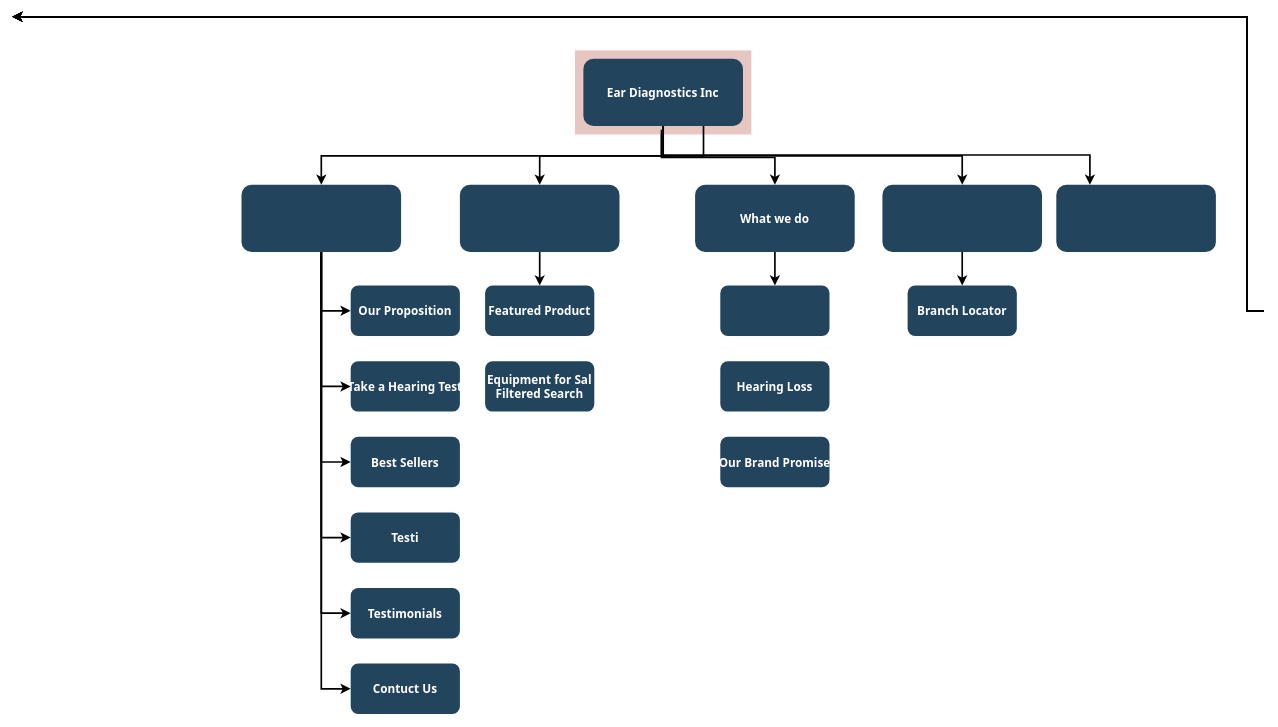
Image size: 1278x727. Some labels were removed from this diagram. The shapes that lost their labels are listed below. From the top down, each one's box as (x1, y1, x2, y2) in pixels, then its label:
(241, 184, 401, 252): Human Resources
(459, 184, 619, 252): Shop
(882, 184, 1042, 252): Visit a Branch
(1056, 184, 1215, 252): Blog
(720, 285, 829, 336): Vision and Mission
